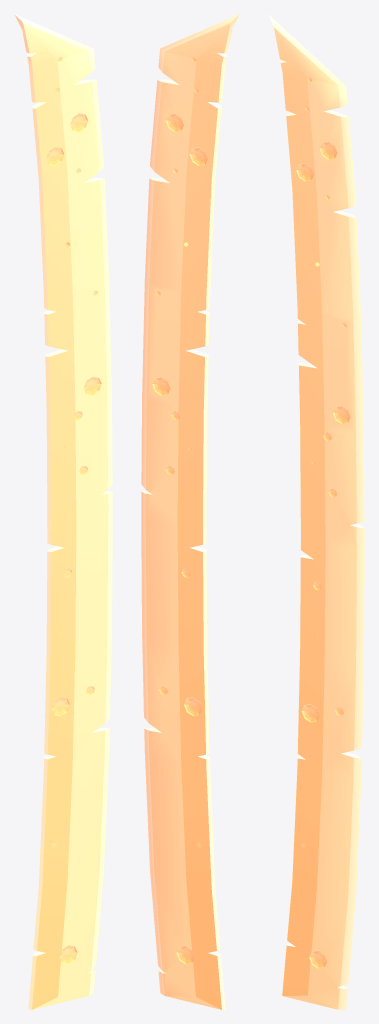
Rendered from wood_blade_bubbles_079.glb.
3 renders of one model, left to right at view 1: azimuth 30°, elevation 25°; view 2: azimuth 150°, elevation 25°; view 3: azimuth 330°, elevation 25°, orthographic. The views are drawn at different scales.
Parts seen in each view (by area): view 1: wood_blade_bubbles.079; view 2: wood_blade_bubbles.079; view 3: wood_blade_bubbles.079.
Part boxes in pixels (box(x1,y1,x2,y2)): wood_blade_bubbles.079: box(14, 14, 112, 1009); wood_blade_bubbles.079: box(141, 14, 239, 1009); wood_blade_bubbles.079: box(268, 14, 364, 1009).
Size of the model in its own units: 1.22 by 11.77 by 0.0749.
1 material, 1 textured.
